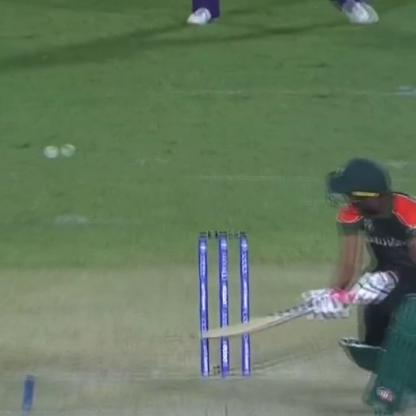ball: (57, 141, 80, 163), (36, 145, 58, 161)
bat: (198, 300, 319, 346)
pitch: (0, 348, 415, 415)
